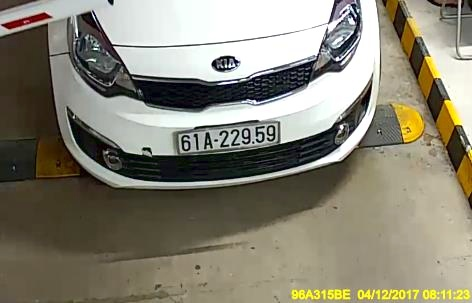plate: (173, 118, 279, 154)
